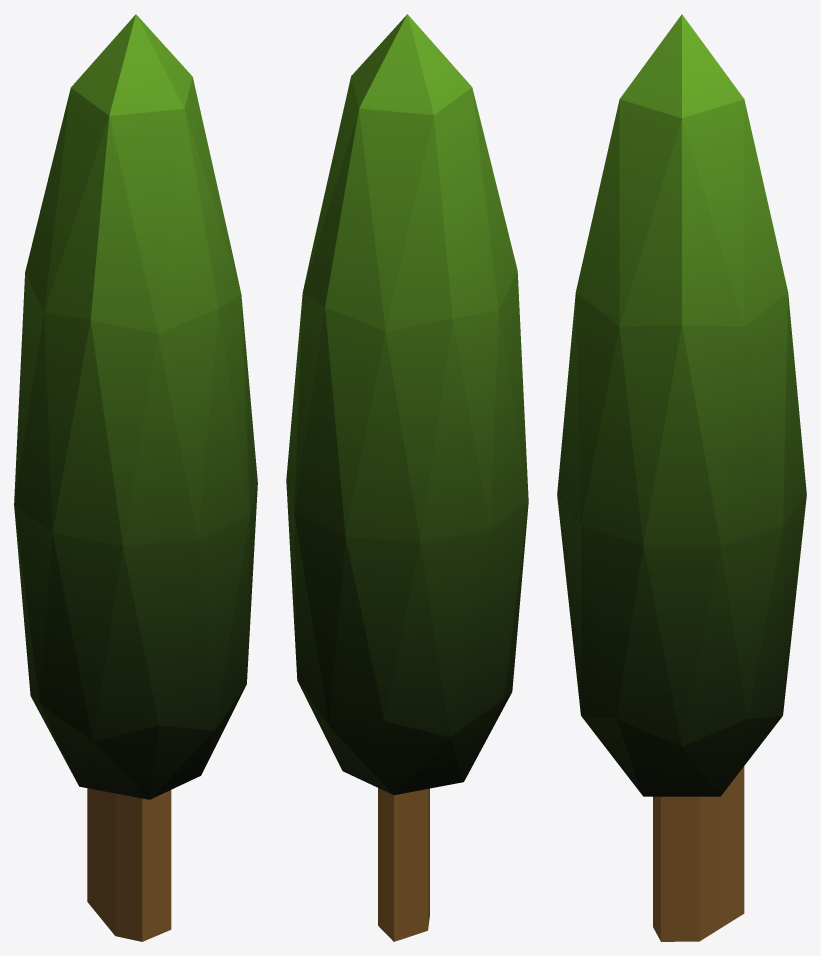
File: tree3.fbx
The picture shows the model from 3 angles, left to right: view 1: azimuth 30°, elevation 25°; view 2: azimuth 150°, elevation 25°; view 3: azimuth 270°, elevation 25°; orthographic projection.
Visible parts, largest first — view 1: garden tree.018; view 2: garden tree.018; view 3: garden tree.018.
Part boxes in pixels (x1,y1,x2,y2): garden tree.018: (14,14,257,941); garden tree.018: (286,14,528,941); garden tree.018: (557,14,806,941).
Bounding box in the file's own units: 2.4 × 10.29 × 2.52.
1 material, 1 textured.
